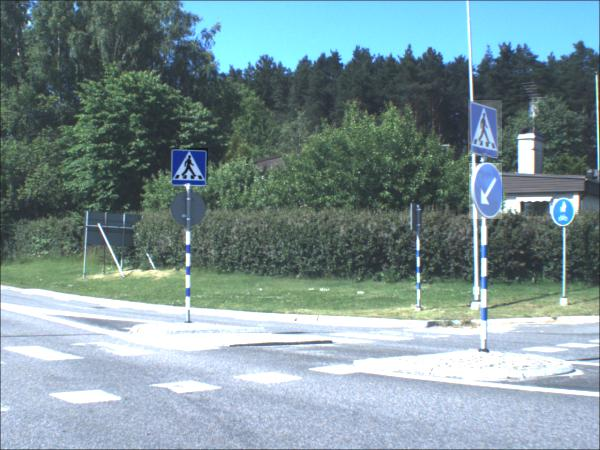PASS_RIGHT_SIDE: (469, 164, 503, 221)
PEDESTRIAN_CROSSING: (468, 101, 503, 158), (172, 150, 209, 188)
